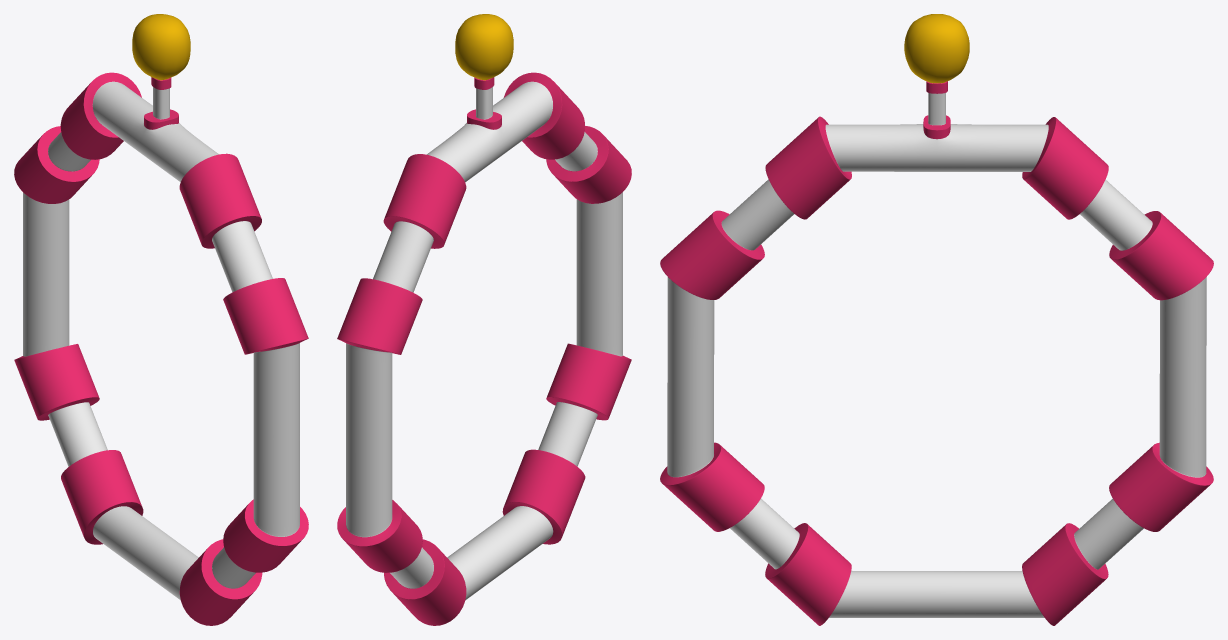
The model's file is target.fbx.
3 views of the same model, side by side, from view 1: azimuth 30°, elevation 25°; view 2: azimuth 150°, elevation 25°; view 3: azimuth 270°, elevation 25° (orthographic). The views are drawn at different scales.
Parts seen in each view (by area): view 1: Torus; view 2: Torus; view 3: Torus.
Boxes of the visible parts, x1,y1,x2,y2 form: Torus: [14, 14, 308, 625]; Torus: [337, 14, 631, 625]; Torus: [660, 14, 1213, 625].
Bounding box in the file's own units: 26.62 × 250 × 208.
